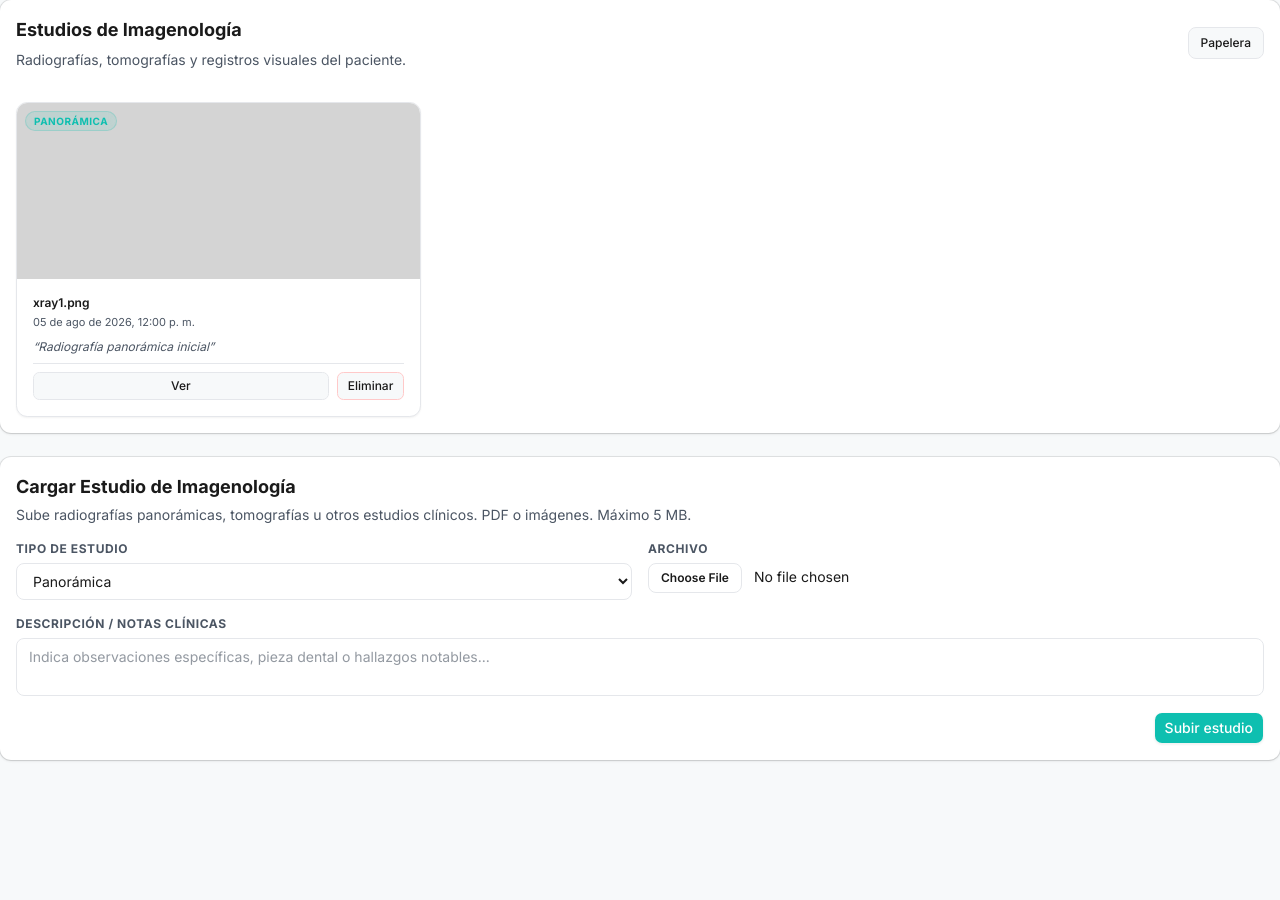
Test: PatientImaging Component › 7. should handle successful restore and remove restored image from list
Step 1. Click the button "Papelera" → click(1226, 43), box [1188,27,1264,59]
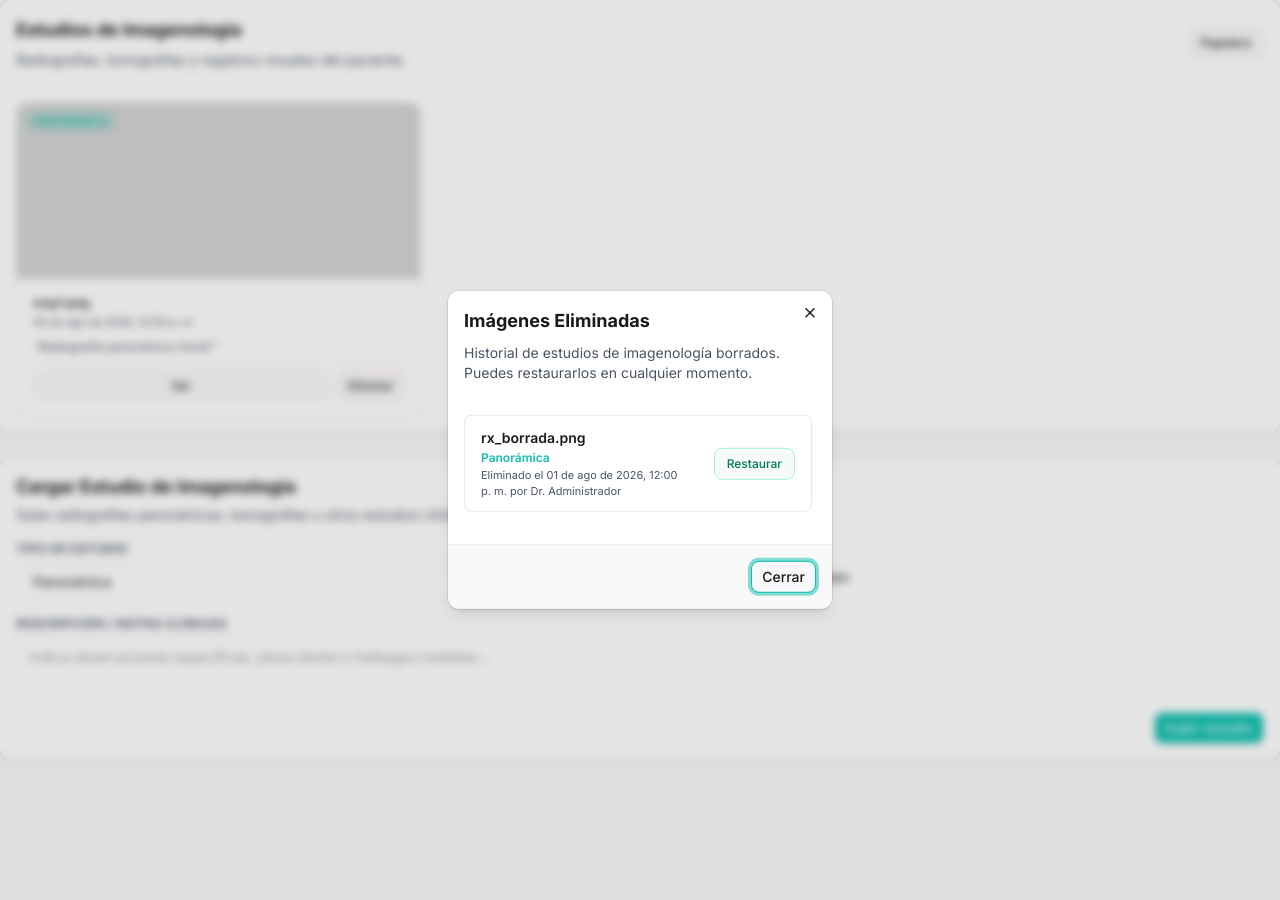
Step 2. Click the button "Restaurar" → click(754, 464), box [714,448,795,480]
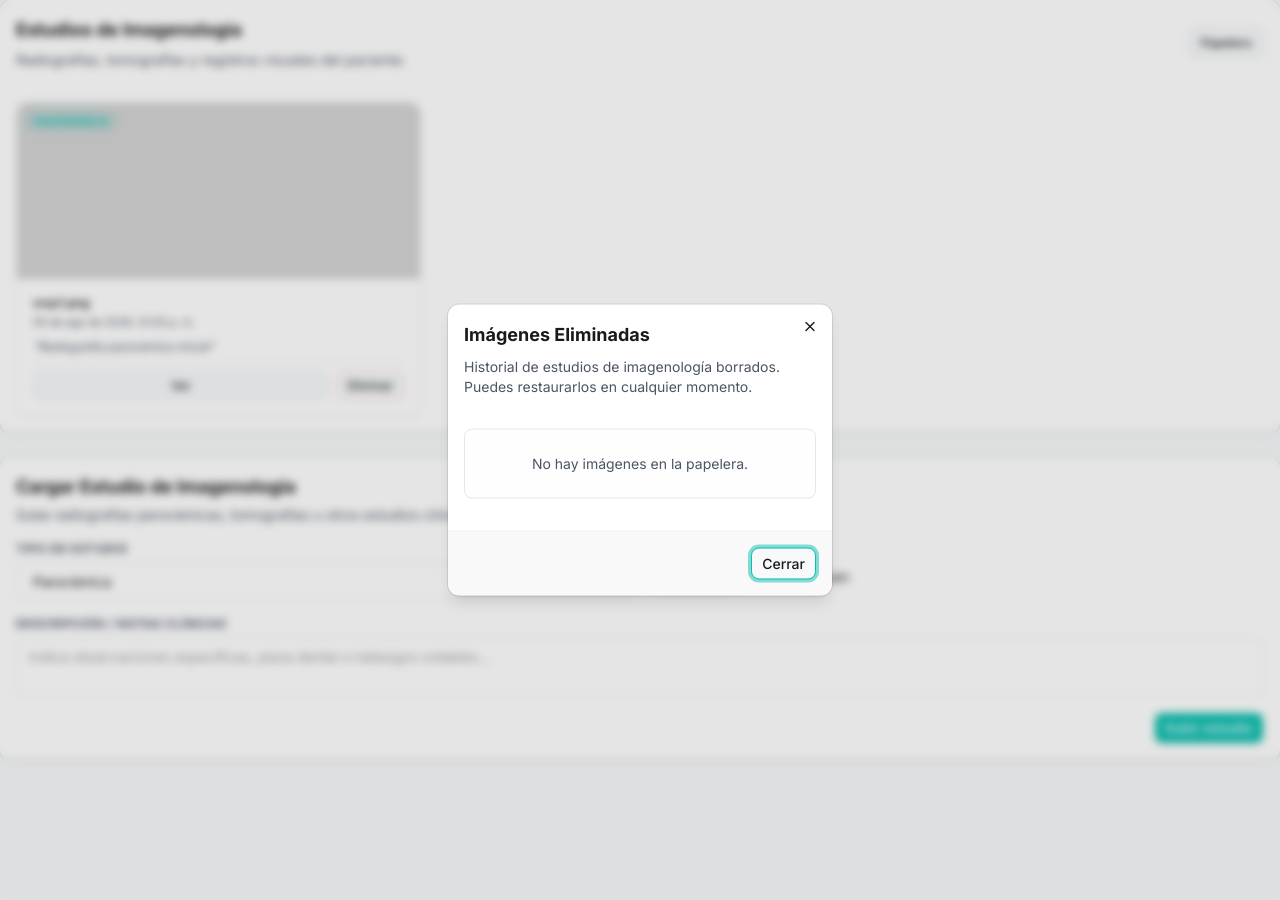
Result: the text "rx_borrada.png" is gone
